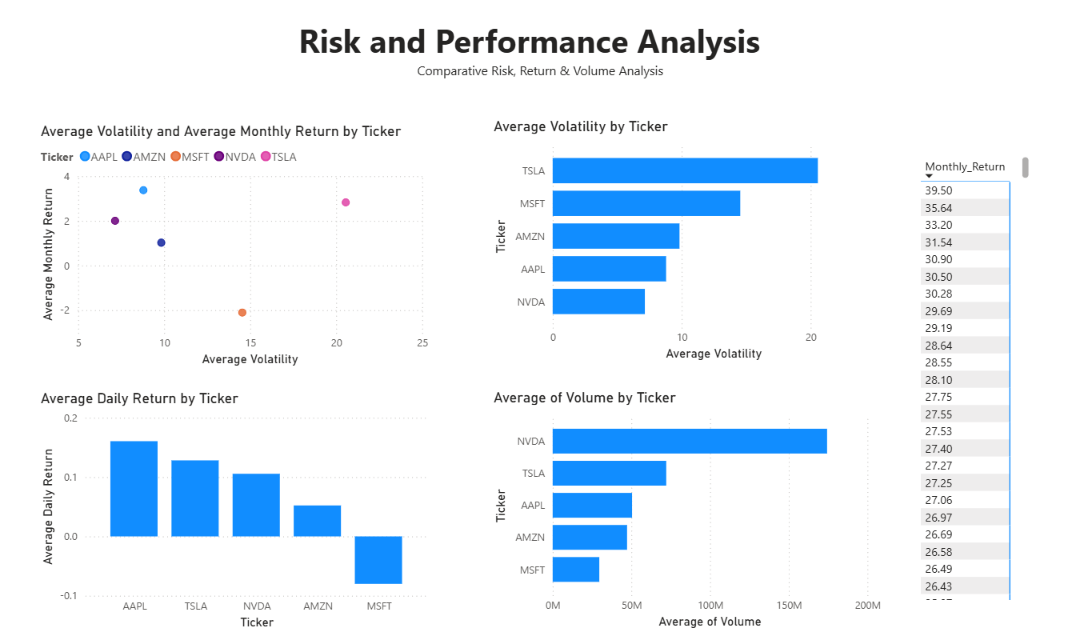

This screenshot's page, from the dashboard's own definition file:
{"tool":"powerbi","page":{"name":" Risk and Performance Analysis","canvas":[1280,720],"ordinal":2},"visuals":[{"type":"scatterChart","fields":{"X":["Measures (3).Average Volatility"],"Y":["Measures (3).Average Monthly Return"],"Series":["stock_data.Ticker"]},"box":[53.5,126.2,461.1,288.2],"z":0},{"type":"barChart","fields":{"Category":["stock_data.Ticker"],"Y":["Measures (3).Average Volatility"]},"box":[580.4,119.4,461.1,288.2],"z":1000},{"type":"columnChart","fields":{"Category":["stock_data.Ticker"],"Y":["Measures (3).Average Daily Return"]},"box":[53.5,436.4,461.1,284],"z":2000},{"type":"barChart","fields":{"Category":["stock_data.Ticker"],"Y":["Avg(stock_data.Volume)"]},"box":[580.4,435,461.1,284],"z":3000},{"type":"pivotTable","fields":{"Rows":["stock_data.Ticker","stock_data.Volatility","stock_data.Monthly_Return","stock_data.StockSense_Score"]},"box":[1078,160,136,526],"z":4000},{"type":"textbox","box":[354,0,572,86],"z":4003}]}

Visuals, with their boxes on the page's 1280x720 design canvas (x1, y1, x2, y2). These are canvas units, not pixel positions in the 1082x631 screenshot, which may show the page scaled, cropped or inside an application window:
scatterChart - Measures (3).Average Volatility x Measures (3).Average Monthly Return: crop(54, 126, 515, 414)
barChart - stock_data.Ticker x Measures (3).Average Volatility: crop(580, 119, 1042, 408)
columnChart - stock_data.Ticker x Measures (3).Average Daily Return: crop(54, 436, 515, 720)
barChart - stock_data.Ticker x Avg(stock_data.Volume): crop(580, 435, 1042, 719)
pivotTable - stock_data.Ticker x stock_data.Volatility: crop(1078, 160, 1214, 686)
textbox: crop(354, 0, 926, 86)
